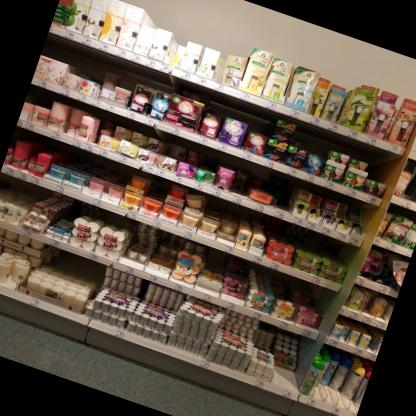empty_space: (229, 158, 260, 199), (275, 174, 301, 212)
